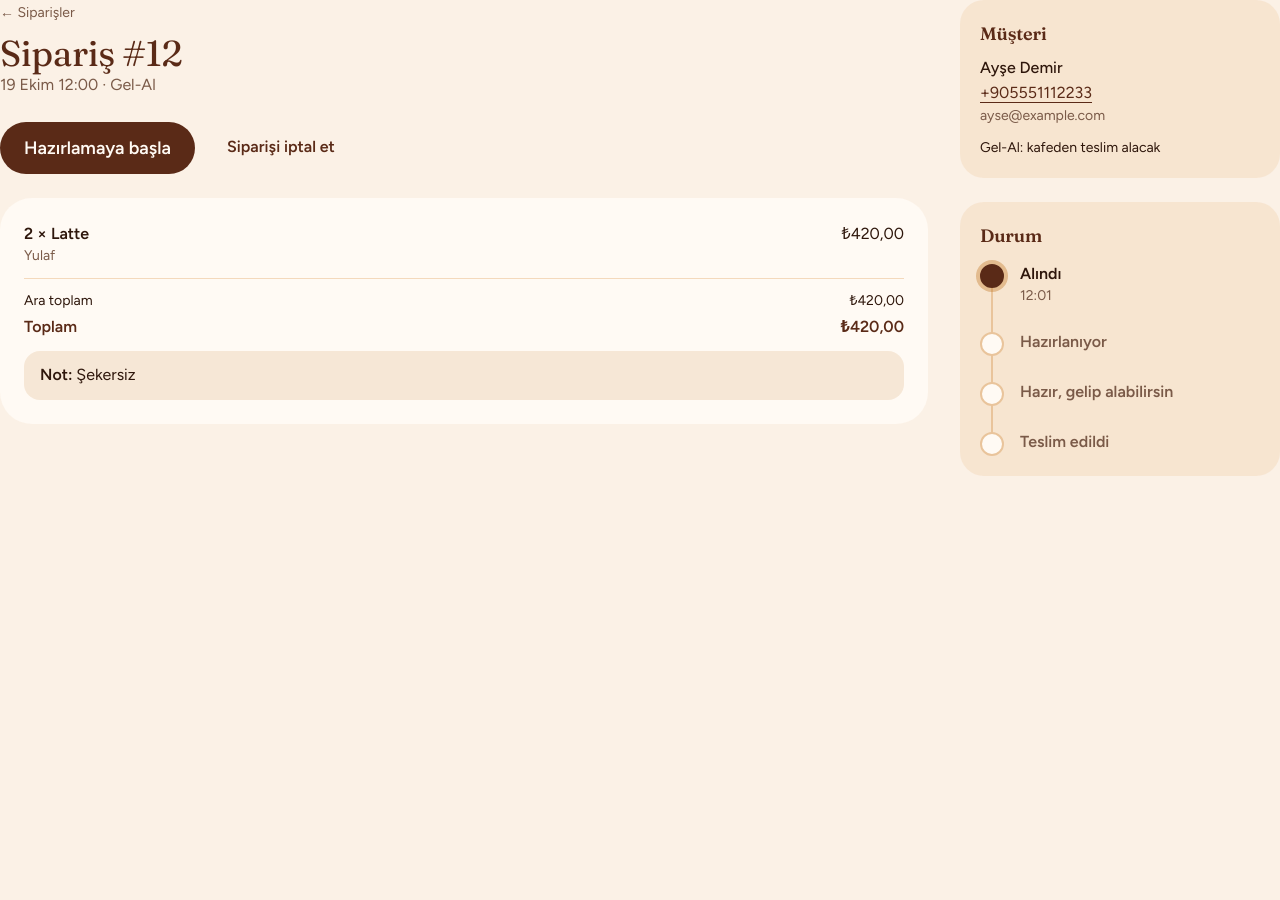
Test case: AdminOrderDetailPage › cancels after confirmation
Click the button "Siparişi iptal et": [281, 148] box [207,122,355,174]
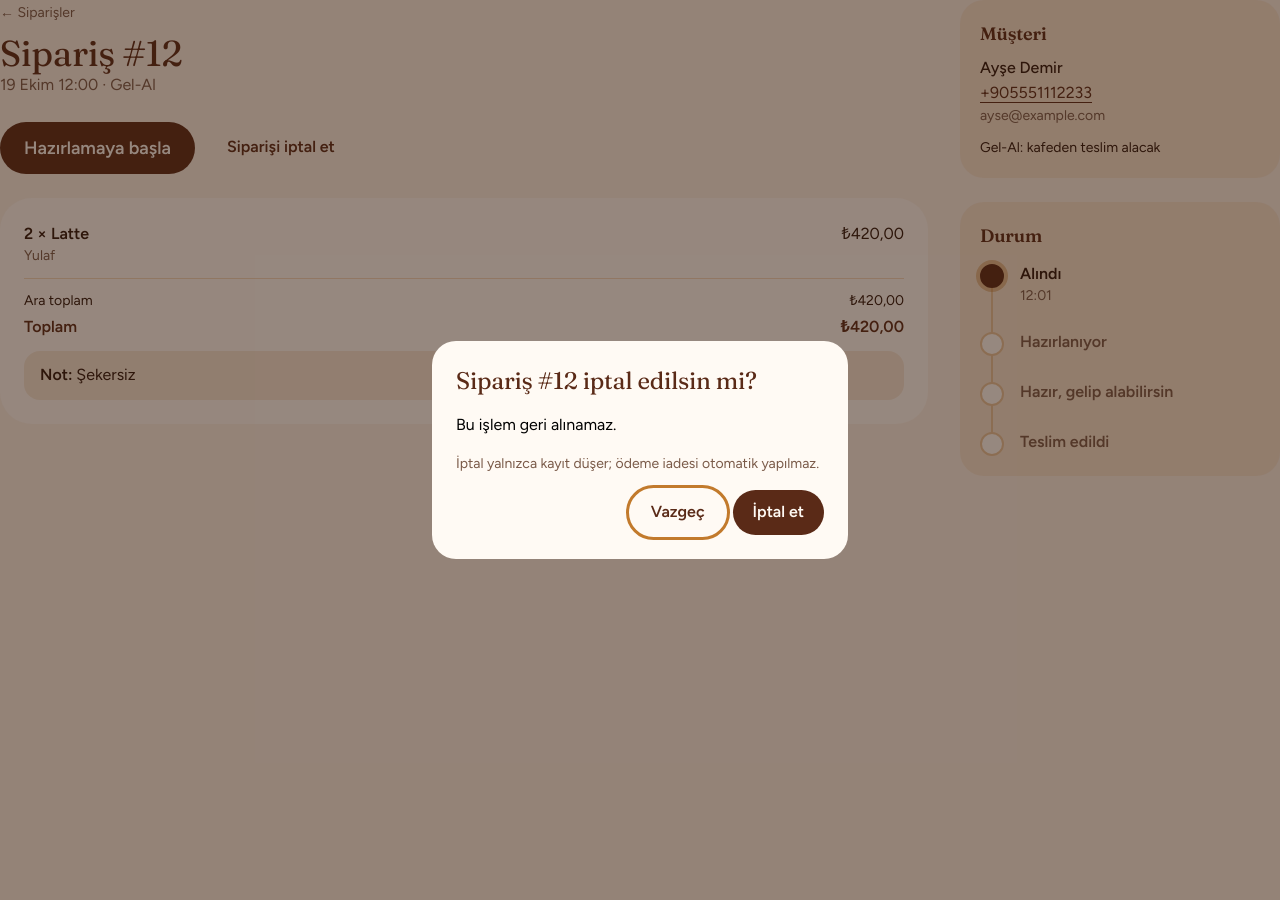
Result: the dialog "Sipariş #12 iptal edilsin mi?" shows "iade" at [456,455,819,472]
Click the button "İptal et": [778, 512] box [733,490,824,535]
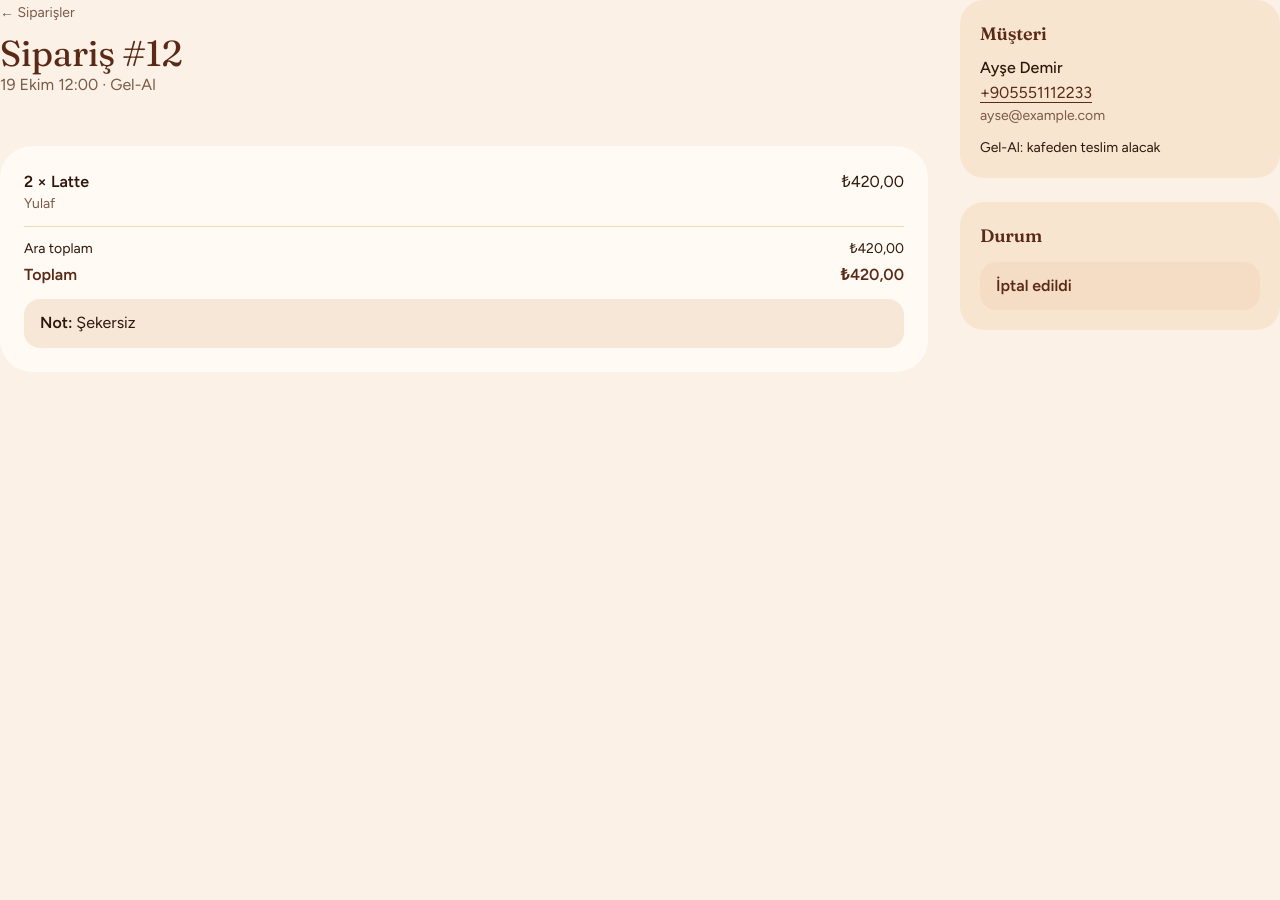
Result: the text "İptal edildi" is shown at [980,262,1260,310]
